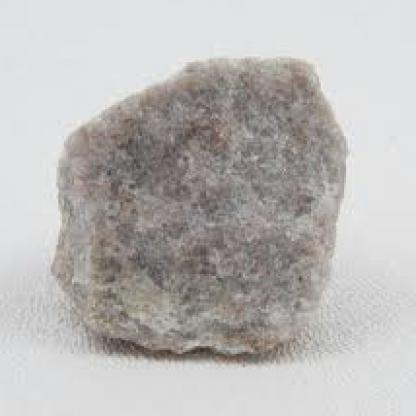Metamorphic_Quartize: (35, 53, 371, 358)
